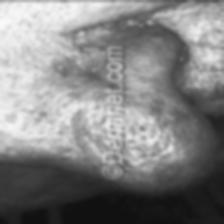Non-Cancerous Skin Condition: (0, 11, 105, 177), (124, 12, 211, 192)
